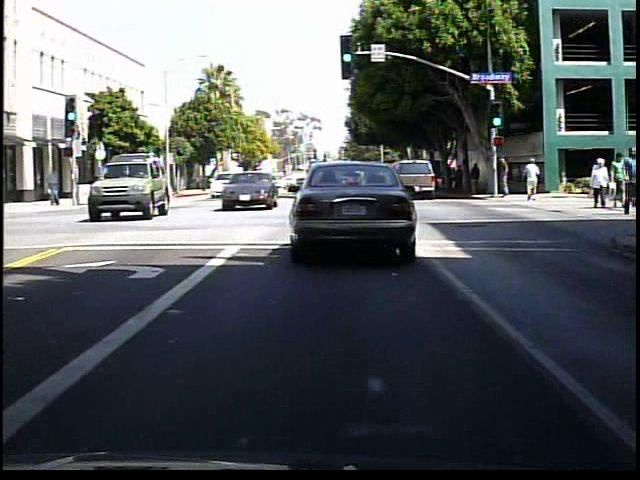person: (585, 159, 613, 212), (617, 148, 636, 216), (494, 154, 514, 205), (522, 157, 543, 205), (48, 166, 68, 209), (470, 162, 485, 194), (456, 164, 469, 196)
